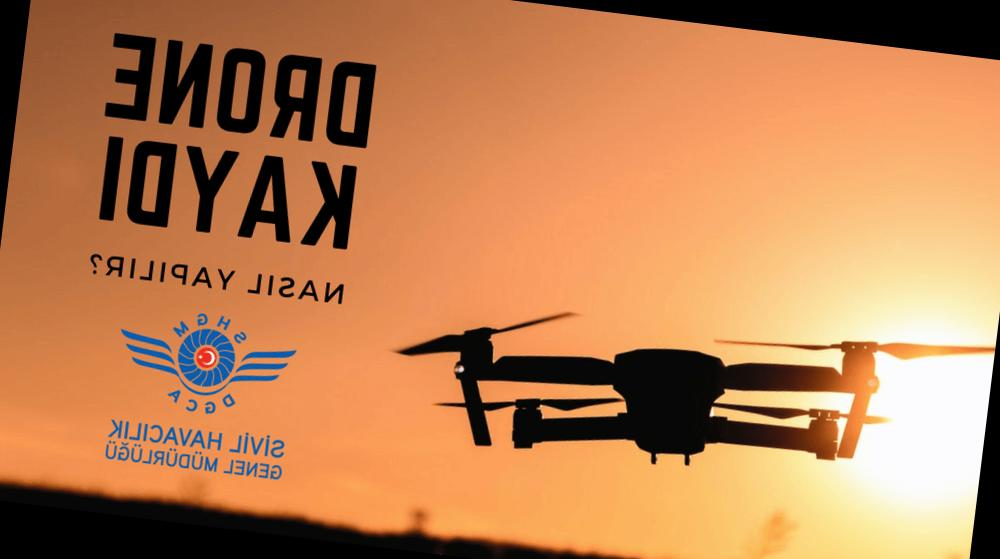drone: (383, 256, 985, 543)
